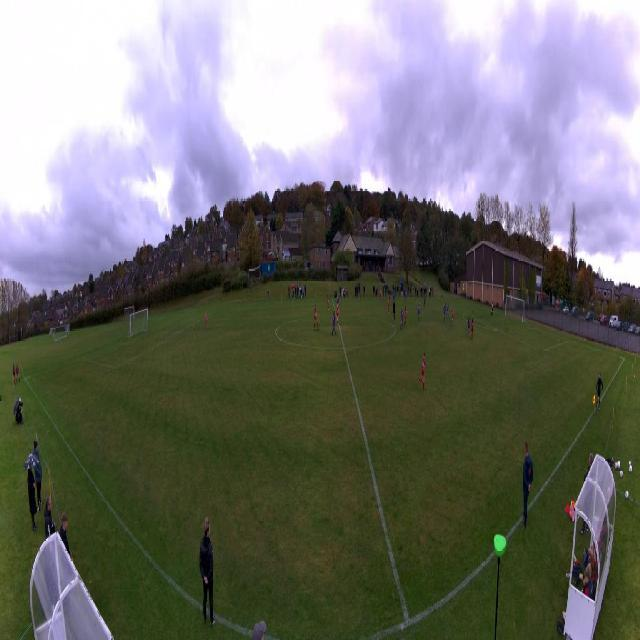ball: (416, 301, 417, 303)
player: (417, 352, 425, 393), (331, 311, 337, 336), (314, 304, 319, 331), (335, 304, 341, 326), (470, 317, 474, 339), (400, 309, 404, 330), (467, 315, 471, 336), (403, 307, 407, 327), (451, 308, 455, 326), (387, 297, 391, 315), (442, 305, 446, 323), (204, 311, 208, 329), (326, 294, 330, 311), (391, 290, 395, 307), (393, 301, 396, 321), (418, 302, 421, 321), (446, 301, 449, 318), (379, 289, 382, 303), (423, 295, 426, 309), (337, 292, 340, 306), (491, 301, 493, 317), (405, 289, 406, 301)
